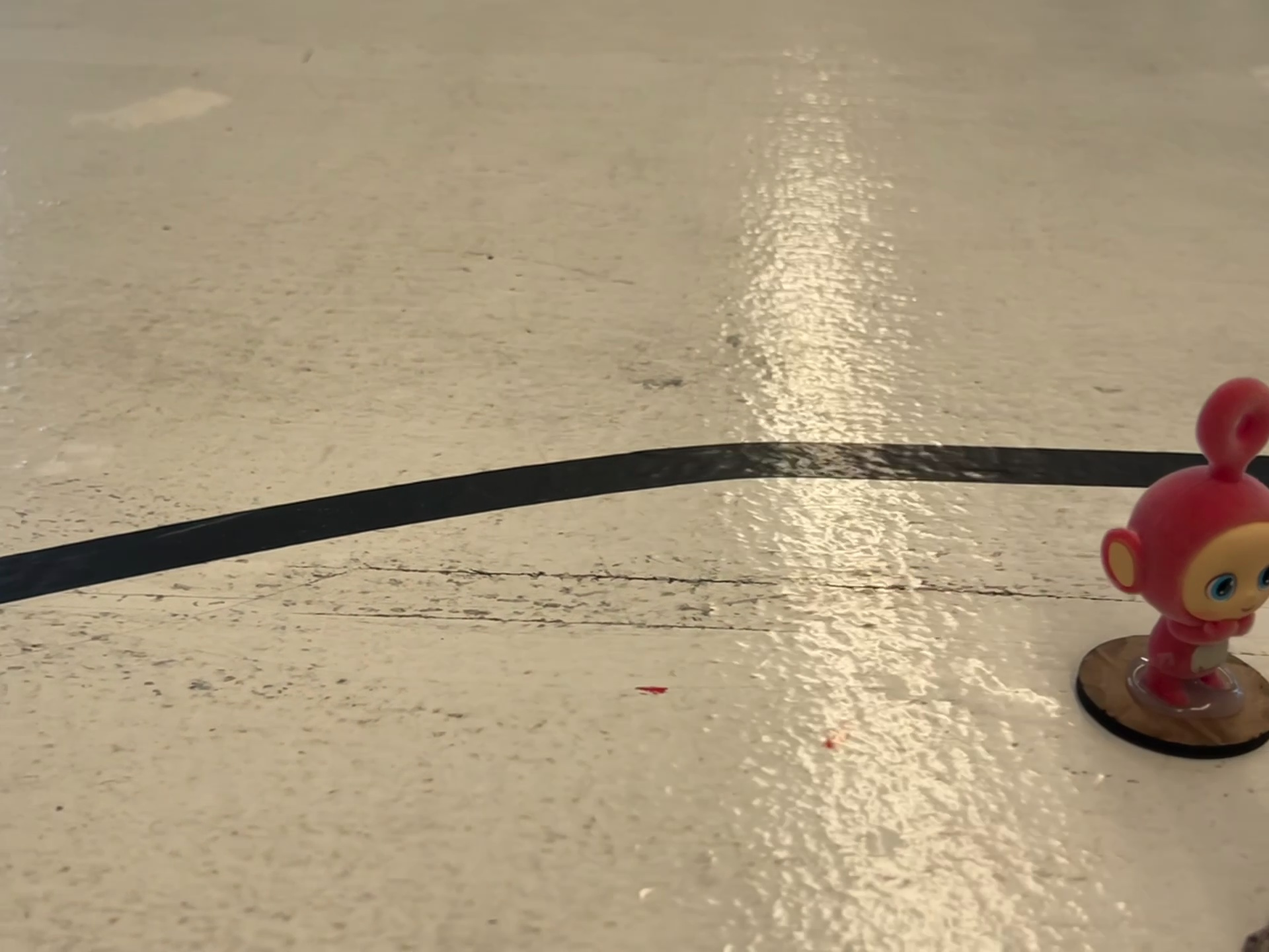teletubby: (1101, 378, 1268, 705)
